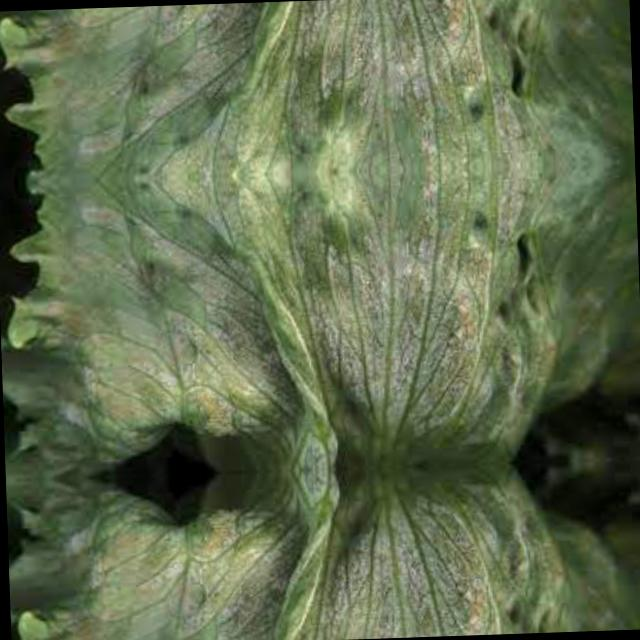Downy_mildew: (0, 160, 640, 480), (5, 457, 640, 640), (0, 0, 635, 182)
